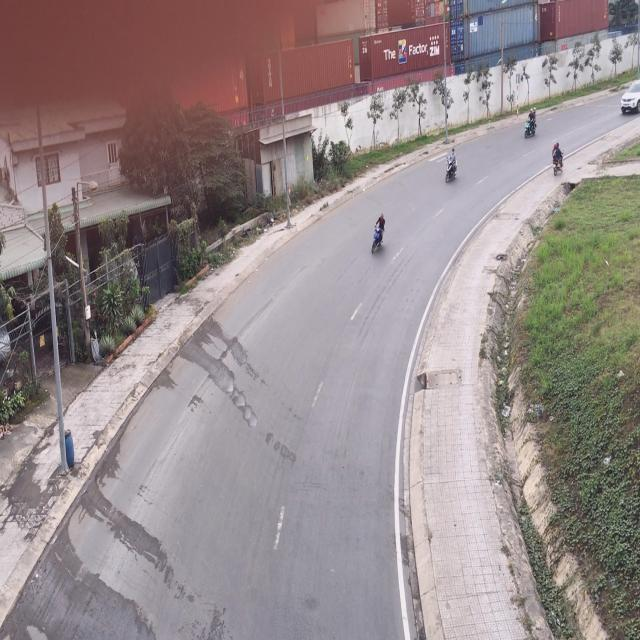car: (619, 84, 640, 116)
motorbike: (368, 210, 386, 256), (523, 102, 538, 140), (442, 144, 456, 183), (552, 142, 564, 179)
